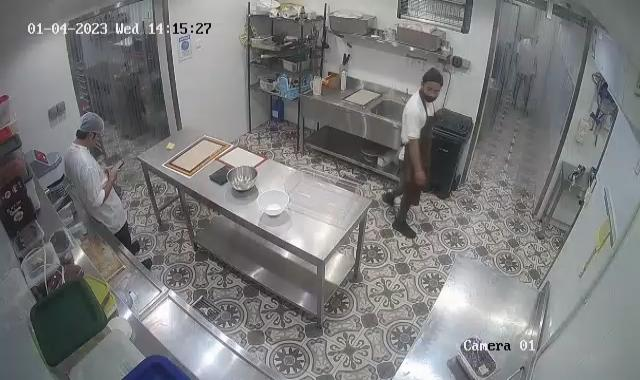hairnet: (78, 110, 107, 140)
no_hairnet: (421, 65, 447, 89)
